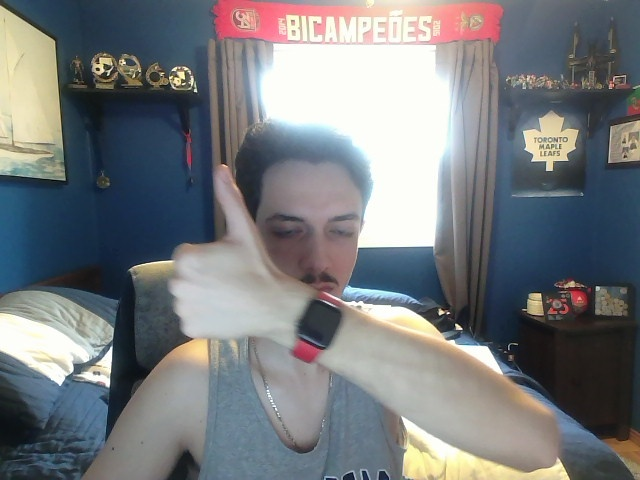ThumbsUp: (167, 164, 283, 344)
